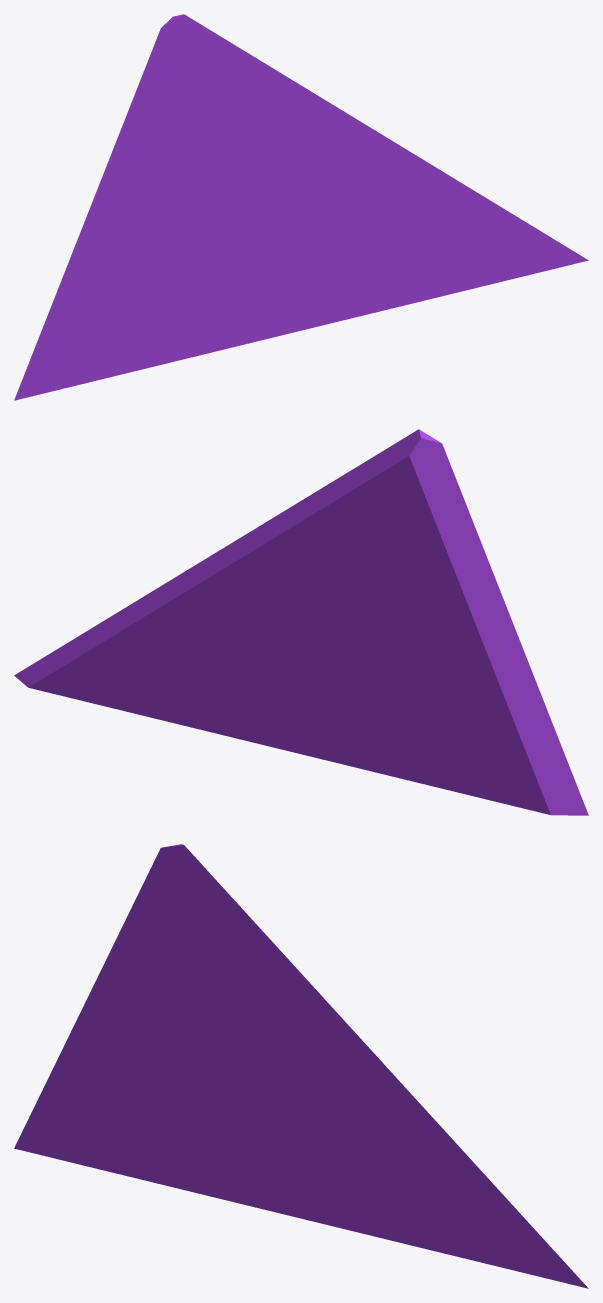
Rendered from Glass_10_2_chunks.fbx.
3 views of the same model, one above another, from view 1: azimuth 30°, elevation 25°; view 2: azimuth 150°, elevation 25°; view 3: azimuth 330°, elevation 25° (orthographic).
Parts seen in each view (by area): view 1: Glass_10_2_0, Glass_10_2_2, Glass_10_2_4, Glass_10_2_1, Glass_10_2_5, Glass_10_2_3, Glass_10_2_6; view 2: Glass_10_2_0, Glass_10_2_2, Glass_10_2_4, Glass_10_2_3, Glass_10_2_6, Glass_10_2_5; view 3: Glass_10_2_0, Glass_10_2_2, Glass_10_2_4, Glass_10_2_1, Glass_10_2_5, Glass_10_2_3, Glass_10_2_6.
Boxes of the visible parts, box(x1,y1,x2,y2) form: Glass_10_2_0: box(14, 129, 244, 400); Glass_10_2_2: box(121, 14, 333, 174); Glass_10_2_4: box(346, 146, 588, 289); Glass_10_2_1: box(235, 105, 400, 240); Glass_10_2_5: box(322, 211, 468, 325); Glass_10_2_3: box(244, 230, 322, 344); Glass_10_2_6: box(244, 173, 357, 253); Glass_10_2_0: box(357, 544, 588, 815); Glass_10_2_2: box(267, 429, 481, 597); Glass_10_2_4: box(14, 548, 254, 717); Glass_10_2_3: box(234, 635, 358, 767); Glass_10_2_6: box(231, 532, 358, 666); Glass_10_2_5: box(151, 664, 234, 737); Glass_10_2_0: box(14, 929, 244, 1204); Glass_10_2_2: box(121, 844, 333, 1030); Glass_10_2_4: box(346, 1083, 588, 1288); Glass_10_2_1: box(235, 1009, 400, 1100); Glass_10_2_5: box(322, 1121, 467, 1259); Glass_10_2_3: box(244, 1113, 322, 1223); Glass_10_2_6: box(244, 1088, 357, 1128).
Size of the model in its own units: 1010 by 579 by 27.2.
